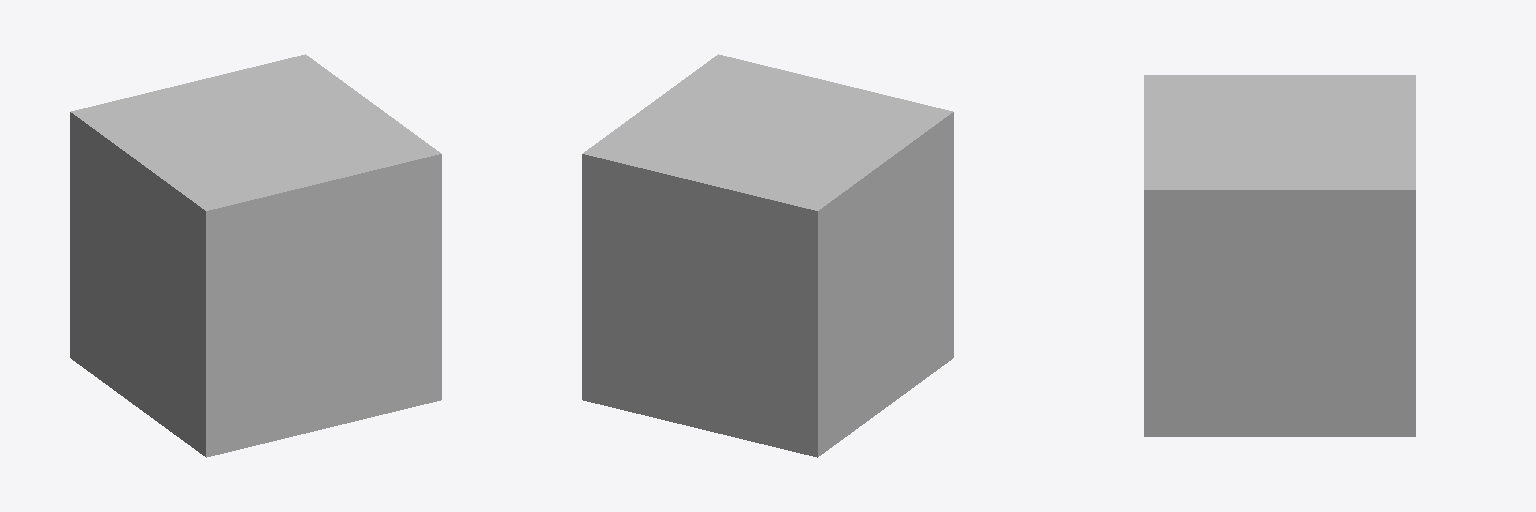
The model's file is hypercube1.obj.
3 renders of one model, left to right at view 1: azimuth 30°, elevation 25°; view 2: azimuth 150°, elevation 25°; view 3: azimuth 270°, elevation 25°, orthographic.
Bounding box in the file's own units: 512 × 512 × 512.